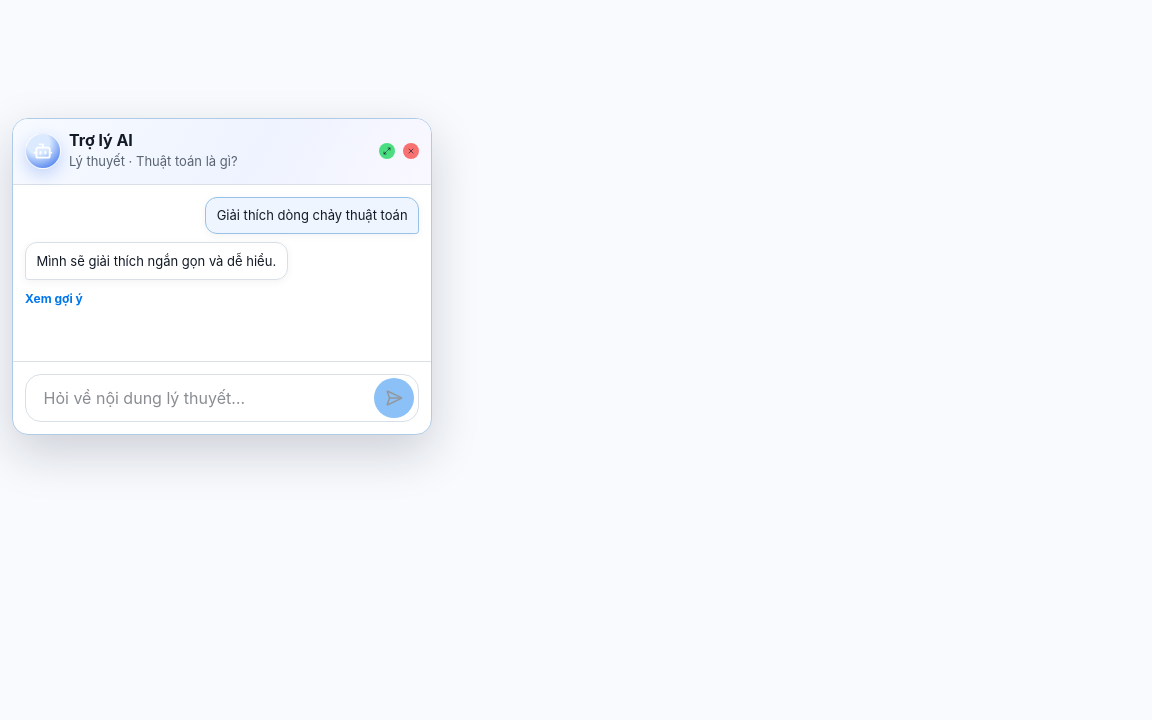
AssistantQuickPopover › shows the latest user and assistant messages as chat bubbles
The image size is (1152, 720).
Expected: the element named "Tóm tắt cuộc hội thoại" shows "Giải thích dòng chảy thuật toán", [217, 208, 408, 224]
Expected: the element named "Tóm tắt cuộc hội thoại" shows "Mình sẽ giải thích ngắn gọn và dễ hiểu.", [36, 253, 276, 269]
Click the button "Xem gợi ý". click: (54, 299)
box: [25, 290, 83, 308]
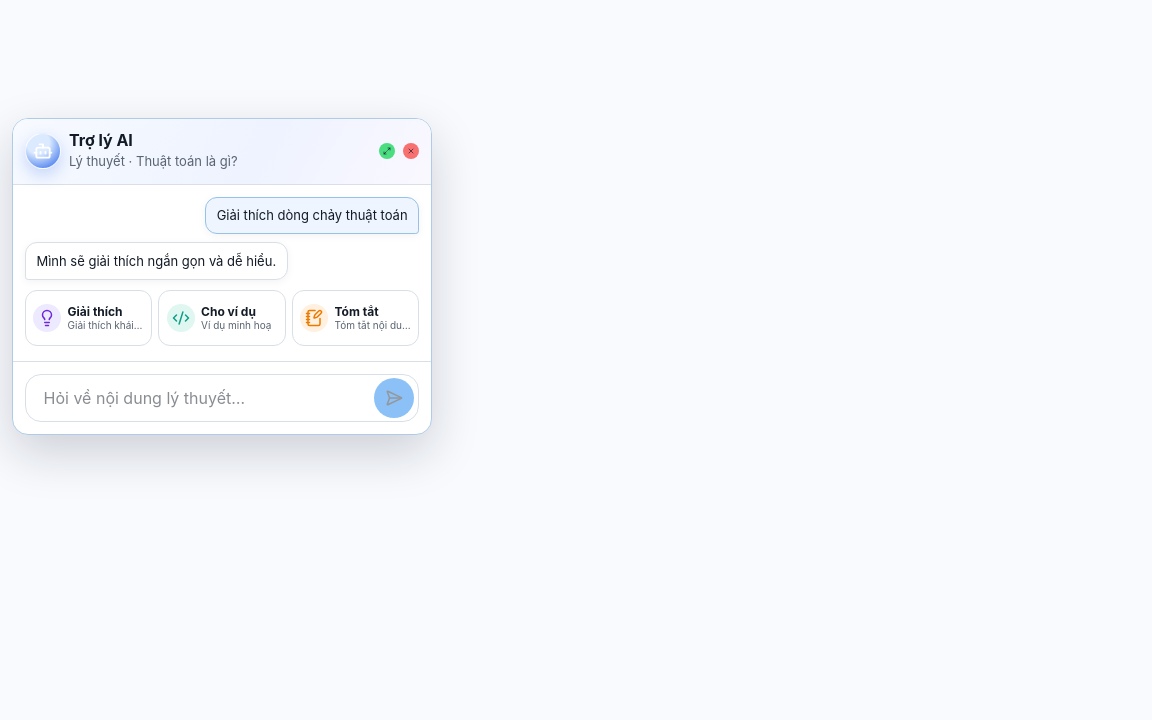
Now the element with test id "assistant-quick-actions" is shown, box [25, 290, 419, 346]
